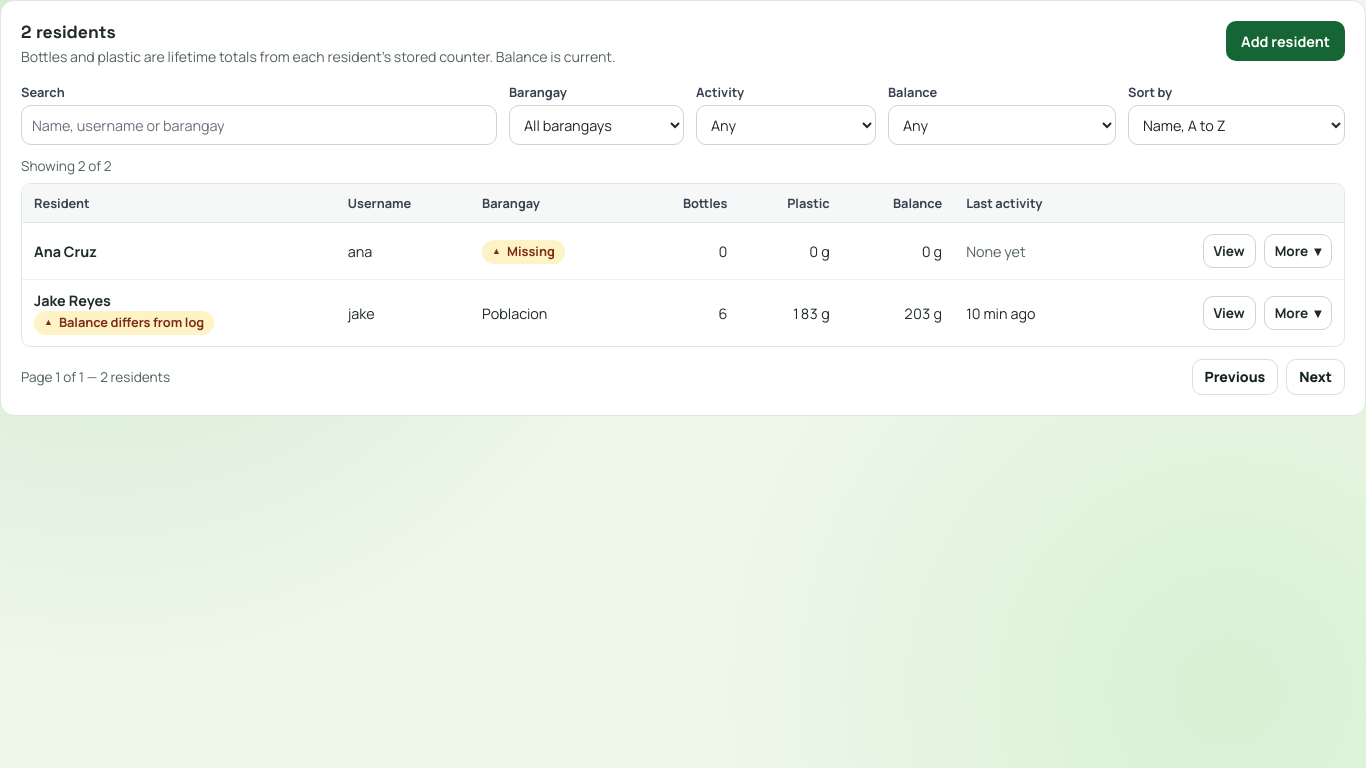
Test case: residents › the More menu works from the keyboard
Click the button with aria-label "More actions for Ana Cruz" at [1298, 251], box top-left (1264, 234), bottom-right (1332, 268)
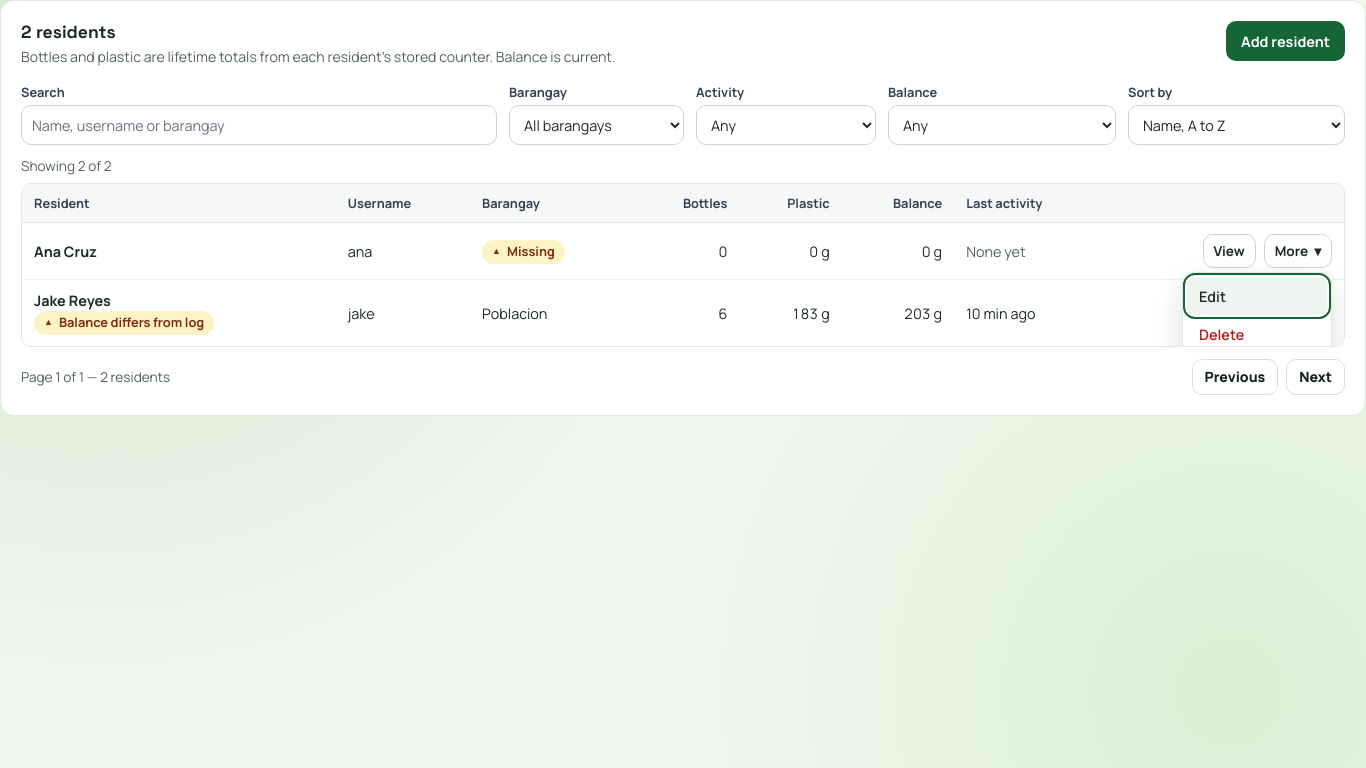
Press ArrowDown in the menu item "Edit", box top-left (1187, 277), bottom-right (1327, 315)
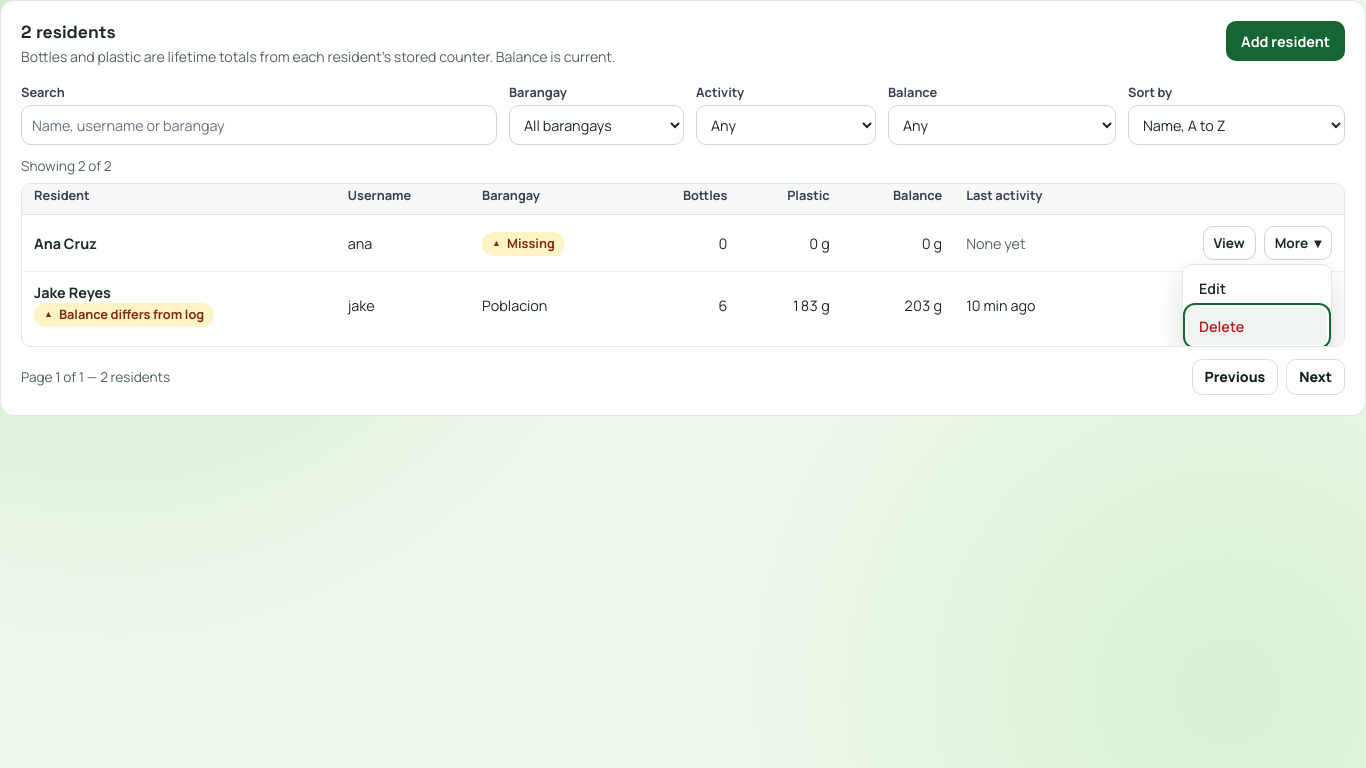
Press Escape in the menu, box top-left (1182, 264), bottom-right (1332, 350)
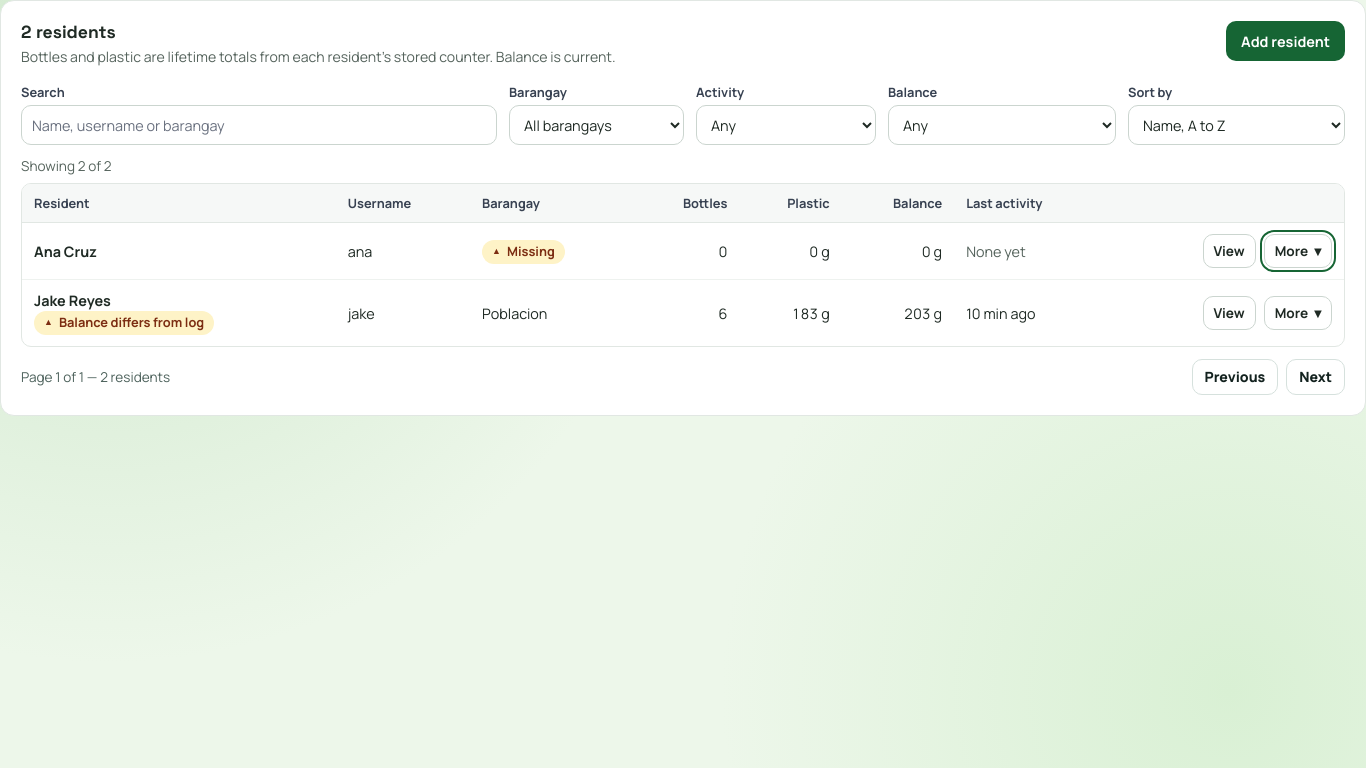
expect the menu is gone: met
